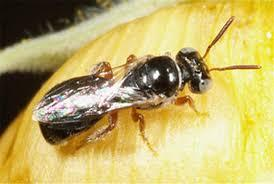Braunsapis: (23, 13, 264, 152)
